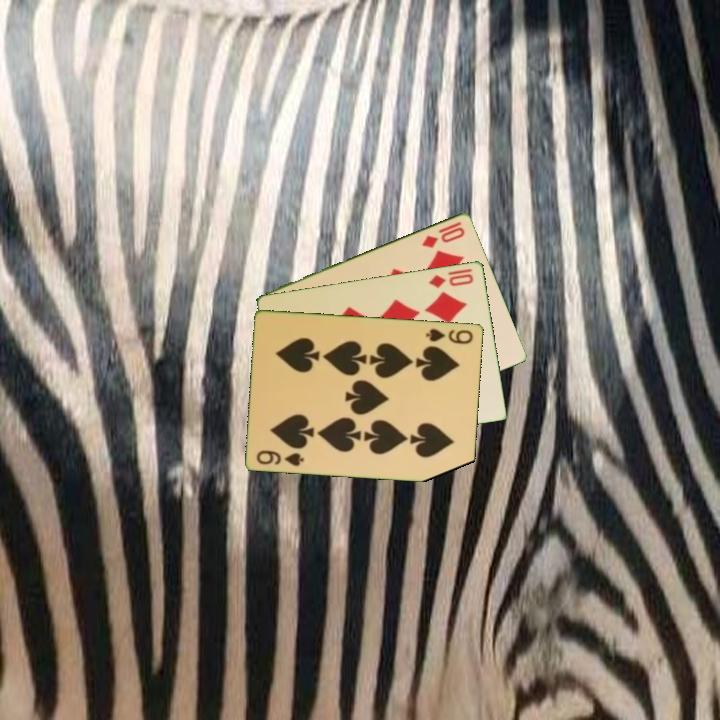10d: (418, 218, 468, 251), (425, 270, 477, 290)
9s: (423, 325, 476, 347), (254, 446, 307, 468)
